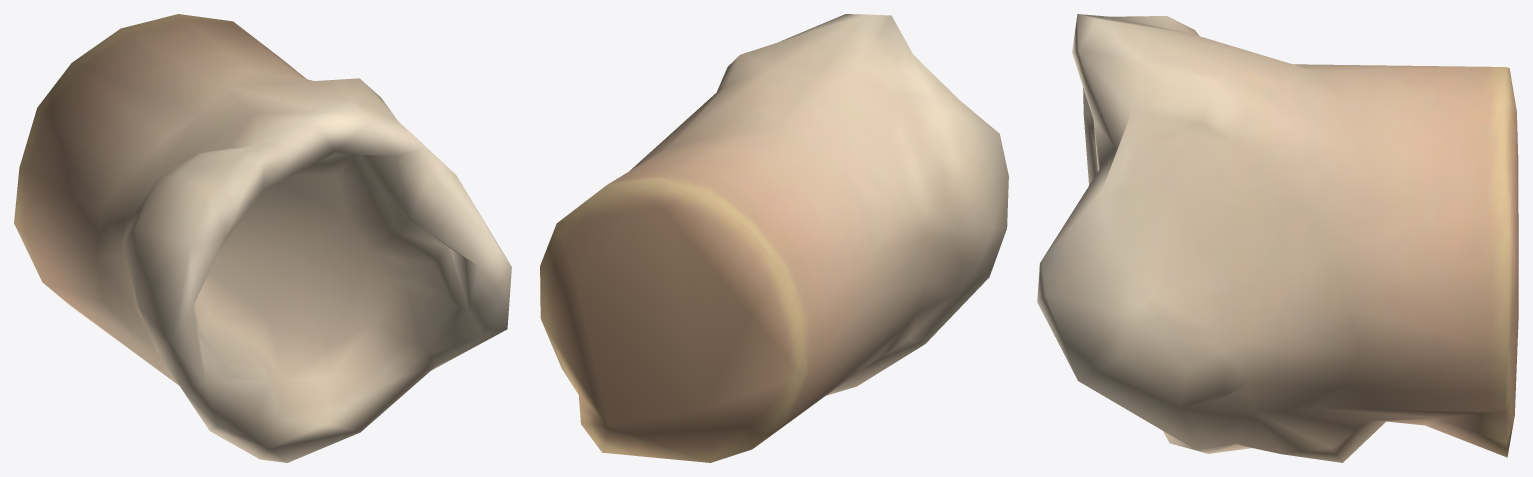
File: Vd_Candle_C.fbx
The picture shows the model from 3 angles, left to right: view 1: azimuth 30°, elevation 25°; view 2: azimuth 150°, elevation 25°; view 3: azimuth 270°, elevation 25°; orthographic projection. The views are drawn at different scales.
Parts seen in each view (by area): view 1: Vd_Candle_C; view 2: Vd_Candle_C; view 3: Vd_Candle_C.
Part boxes in pixels (x1,y1,x2,y2): Vd_Candle_C: (14,14,511,462); Vd_Candle_C: (540,14,1008,462); Vd_Candle_C: (1037,14,1518,462).
Bounding box in the file's own units: 39.71 × 41.38 × 43.68.
